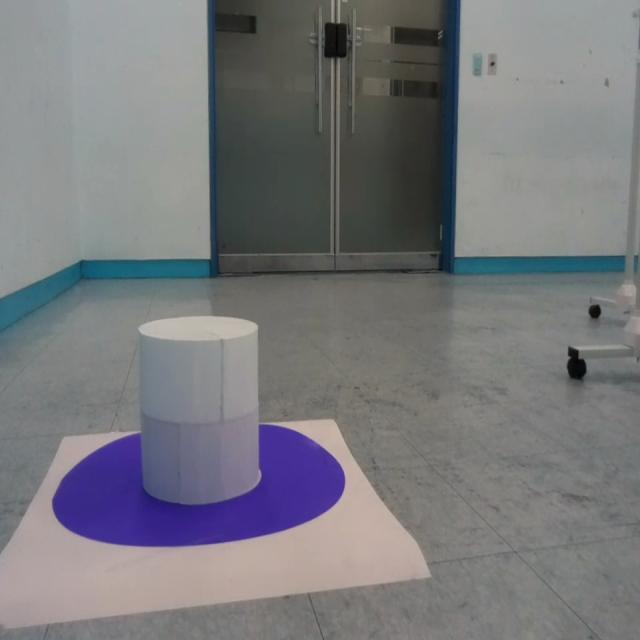cylinder: (137, 314, 262, 503)
